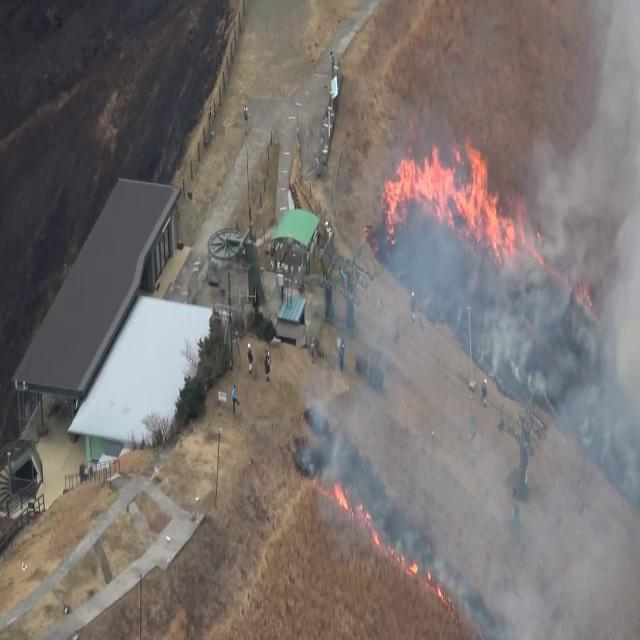Fire: (380, 133, 520, 261), (328, 473, 350, 517)
Smoke: (309, 0, 640, 632)
